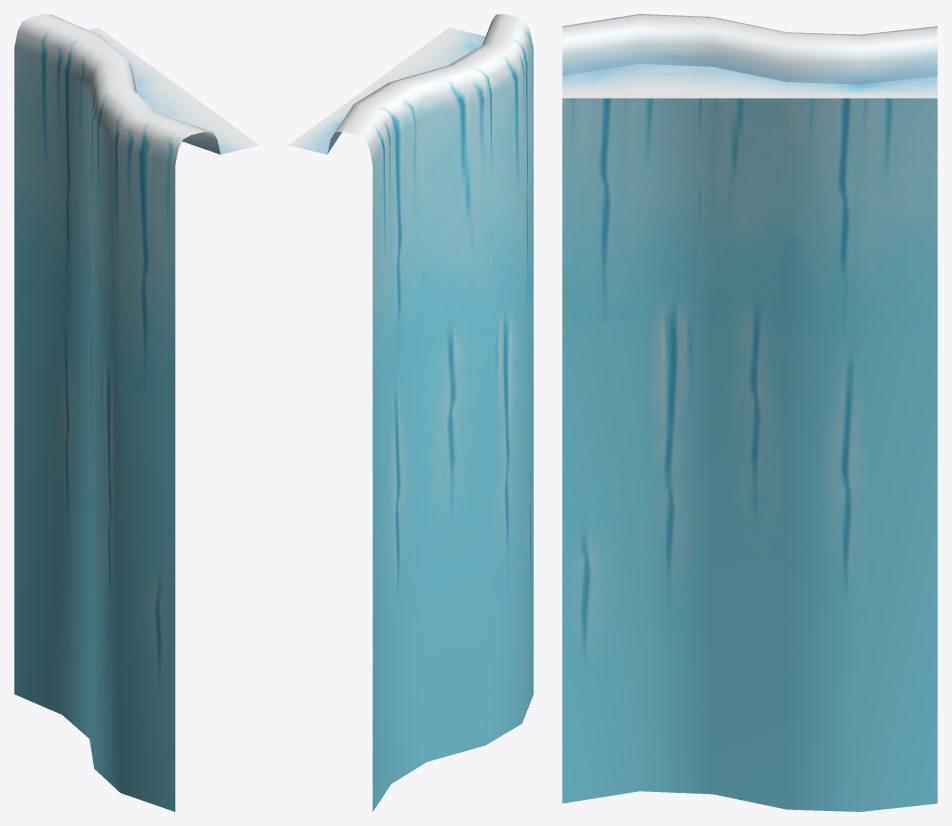
The model's file is High_Dike_1.FBX.
3 renders of one model, left to right at view 1: azimuth 30°, elevation 25°; view 2: azimuth 150°, elevation 25°; view 3: azimuth 270°, elevation 25°, orthographic. The views are drawn at different scales.
Parts seen in each view (by area): view 1: Object294; view 2: Object294; view 3: Object294.
Boxes of the visible parts, box(x1,y1,x2,y2) form: Object294: box(14, 14, 259, 811); Object294: box(288, 14, 533, 811); Object294: box(562, 14, 937, 811).
Size of the model in its own units: 152 by 923 by 400.
